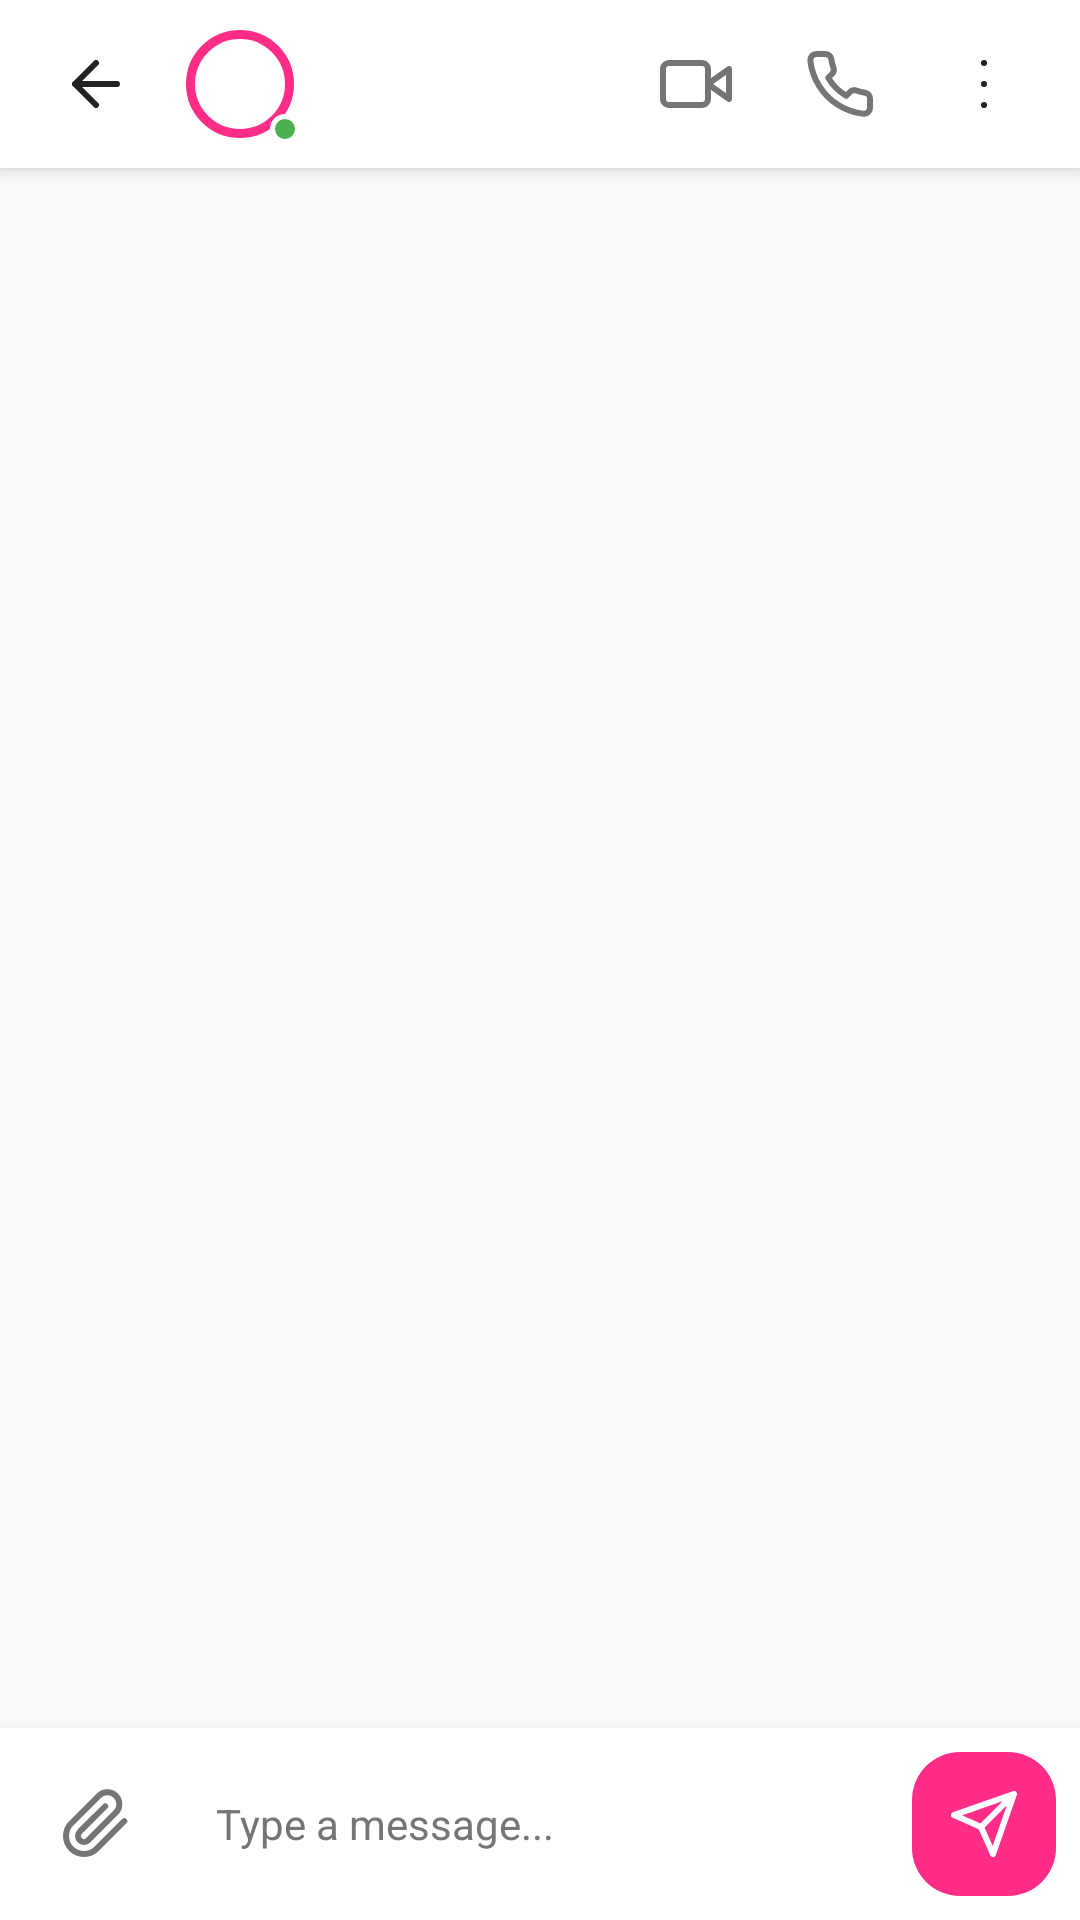

Where to tap for icons on this 1080*1920 app screen, as (x,y):
Attach file: (95,1823)
Back: (96,84)
Send message: (984,1824)
Video call: (696,84)
Voice call: (840,84)
